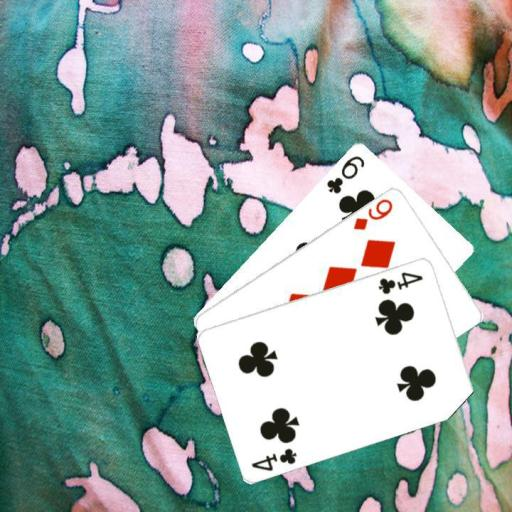4C: (248, 445, 299, 472), (376, 268, 425, 296)
6C: (323, 151, 366, 195)
9D: (350, 195, 395, 232)
